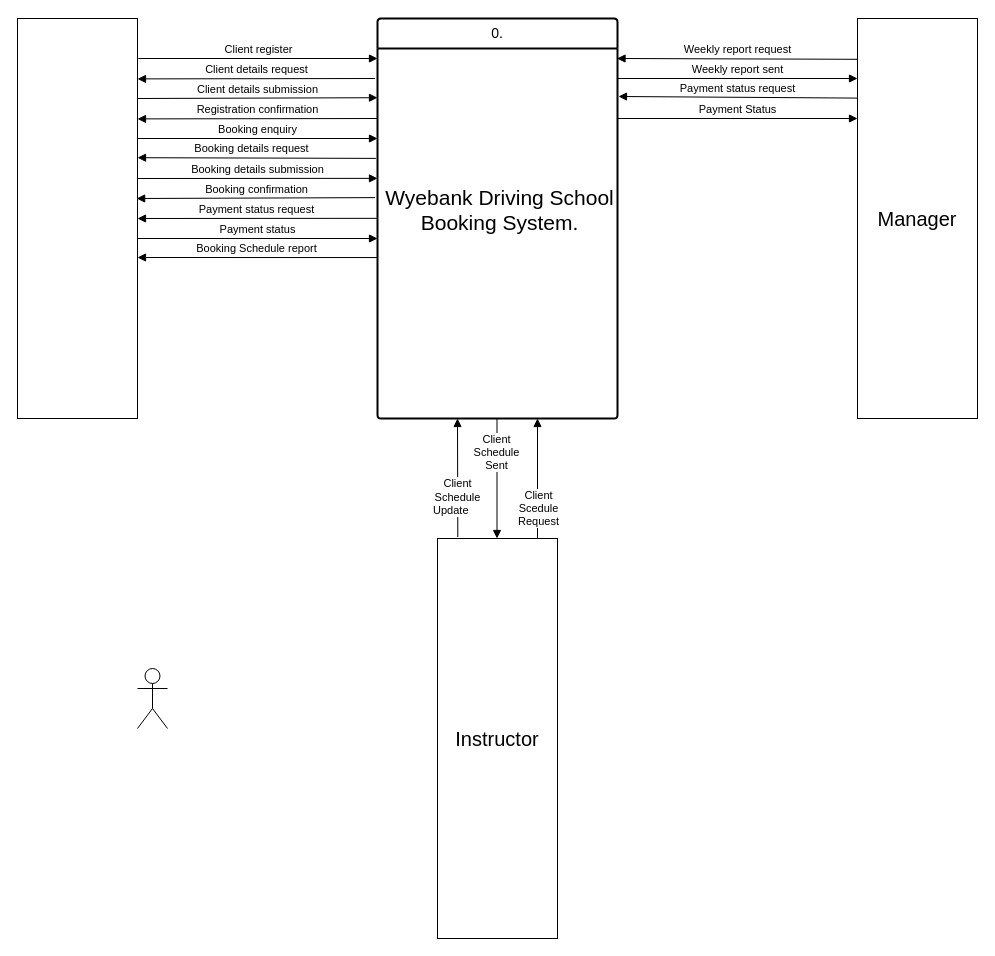
The diagram is 995 pixels wide and 956 high, and some of its shapes have lost their labels. Here are the shapes that lost their labels. From the top down, the box of each, then its label:
(16, 18, 138, 418): Client
(136, 668, 168, 728): Actor
